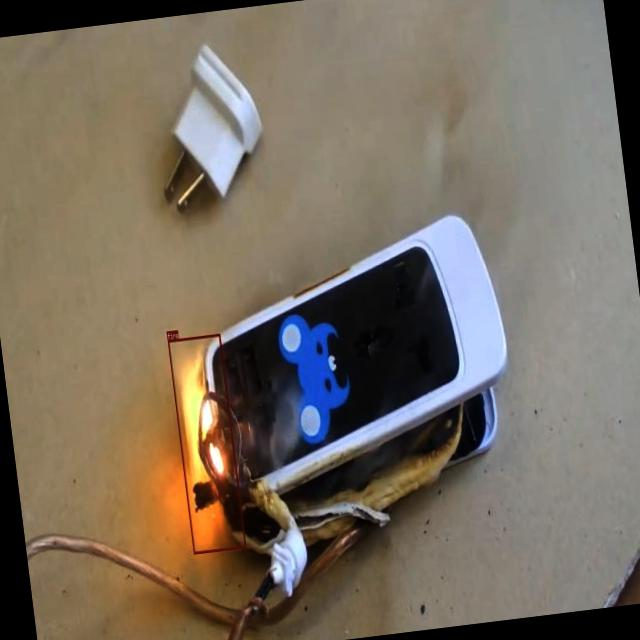fire: (167, 333, 246, 554)
